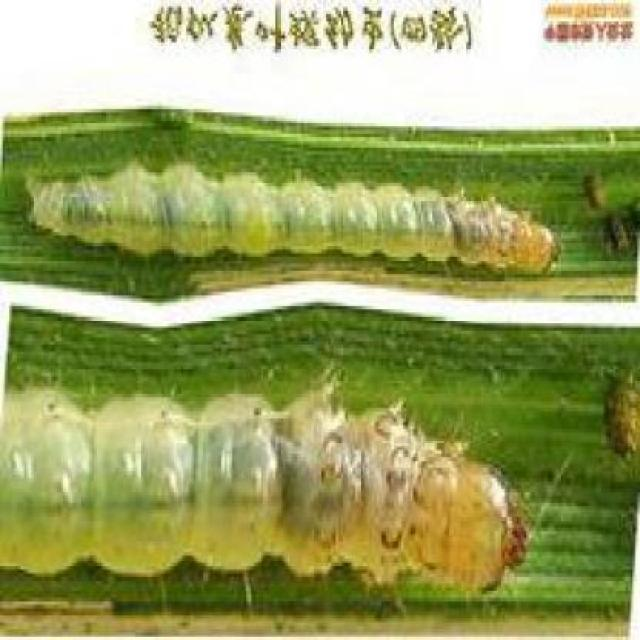leaf-folder: (20, 391, 543, 620), (43, 132, 560, 300)
